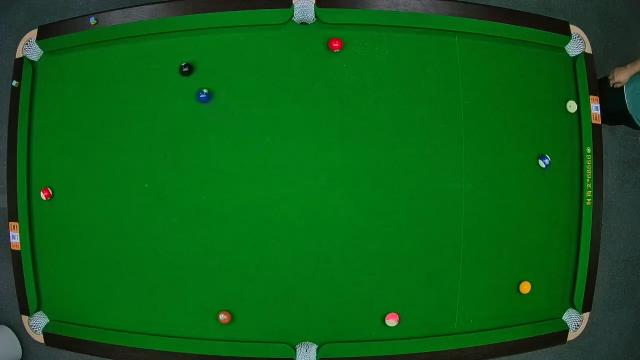bag1: (20, 40, 42, 62)
bag2: (292, 2, 316, 26)
bag3: (566, 36, 586, 58)
bag4: (29, 311, 49, 333)
bag5: (294, 340, 318, 360)
bag6: (562, 308, 582, 330)
ball0: (565, 100, 579, 112)
ball1: (518, 280, 534, 296)
ball10: (536, 153, 552, 169)
ball11: (38, 186, 52, 202)
ball12: (386, 313, 399, 327)
ball2: (195, 88, 209, 102)
ball3: (329, 36, 343, 52)
ball7: (217, 309, 233, 325)
ball8: (178, 62, 194, 77)
